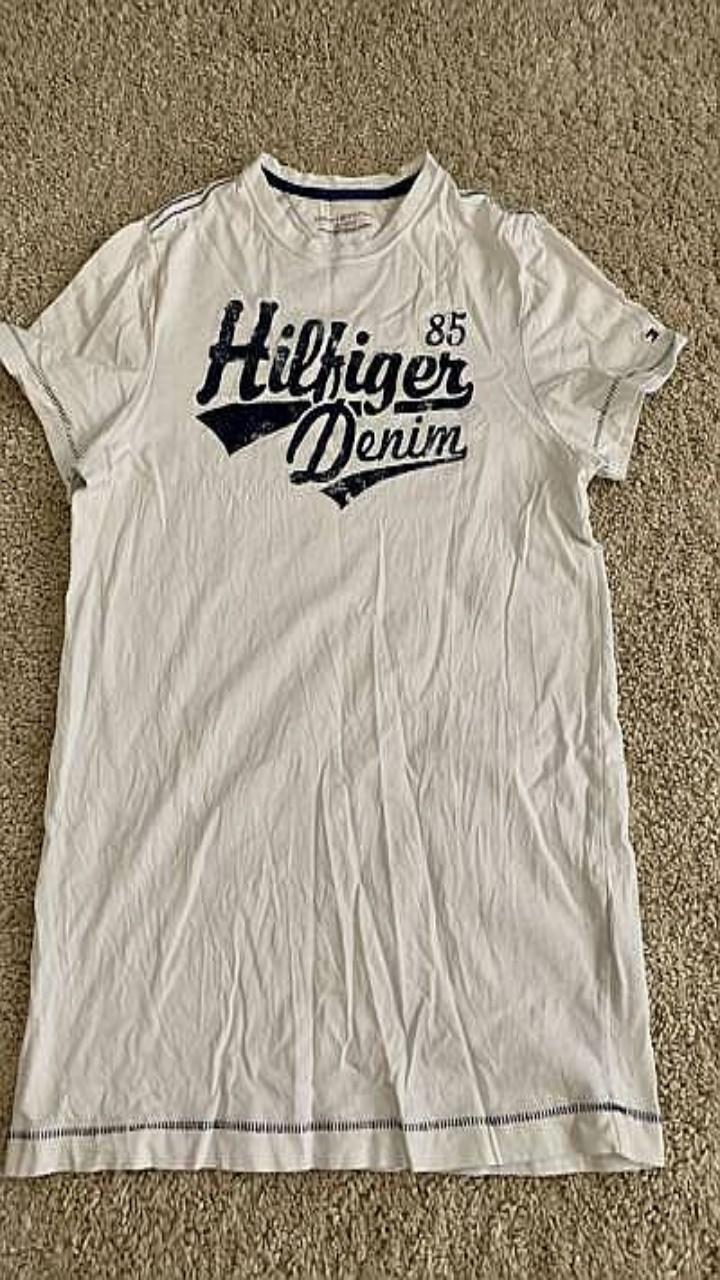T-Shirt: (0, 150, 687, 1175)
